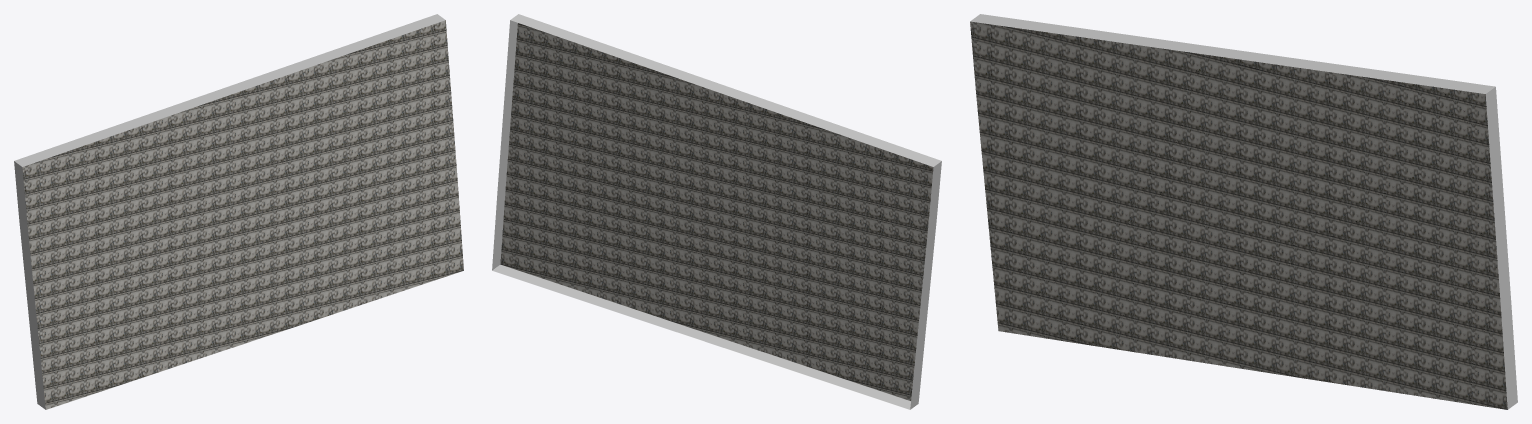
The model's file is geospecific_396.obj.
The picture shows the model from 3 angles, left to right: view 1: azimuth 30°, elevation 25°; view 2: azimuth 150°, elevation 25°; view 3: azimuth 330°, elevation 25°; orthographic projection. The views are drawn at different scales.
Parts seen in each view (by area): view 1: Building; view 2: Building; view 3: Building.
Boxes of the visible parts, box(x1,y1,x2,y2) form: Building: box(14, 14, 463, 409); Building: box(492, 14, 941, 409); Building: box(970, 14, 1517, 409).
Bounding box in the file's own units: 90.68 × 57.35 × 3.
